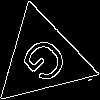G: (17, 33, 78, 94)
